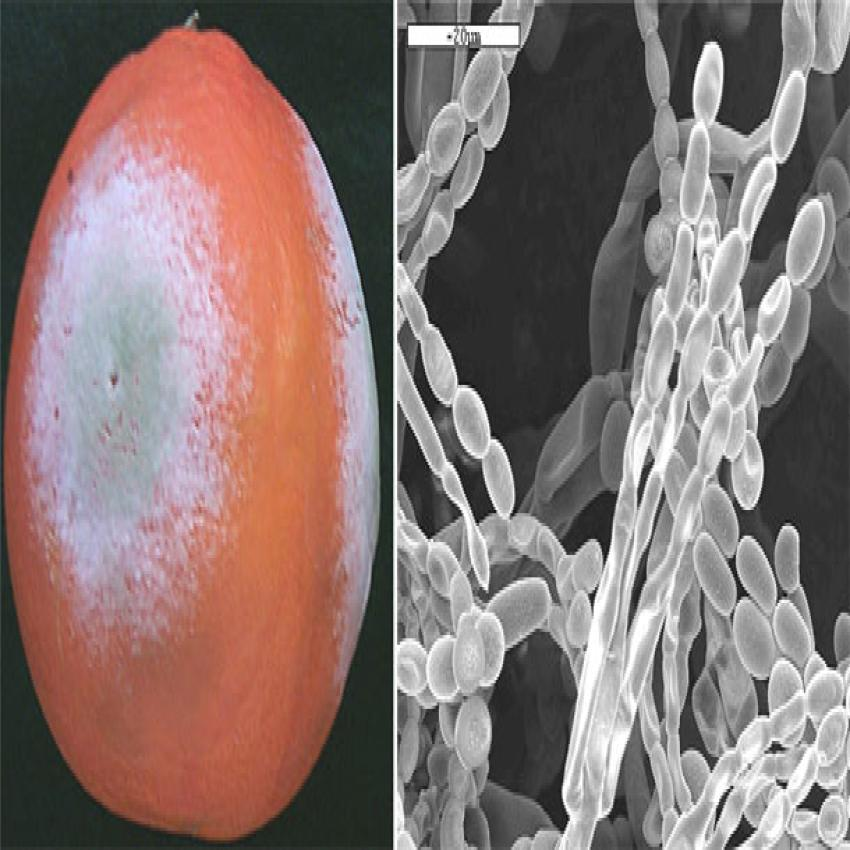Mal estado: (5, 0, 382, 839)
